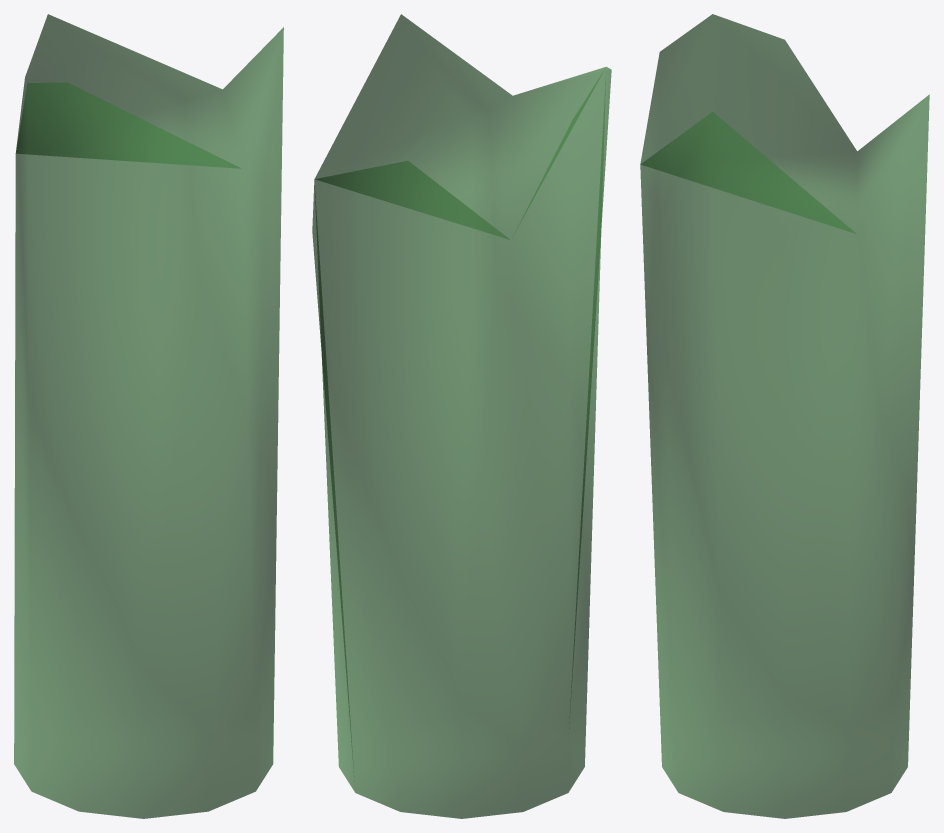
Rendered from broken_bottle_weapon.glb.
3 views of the same model, side by side, from view 1: azimuth 30°, elevation 25°; view 2: azimuth 150°, elevation 25°; view 3: azimuth 270°, elevation 25° (orthographic). The views are drawn at different scales.
Parts seen in each view (by area): view 1: broken_bottle_weapon; view 2: broken_bottle_weapon; view 3: broken_bottle_weapon.
Part boxes in pixels (x1,y1,x2,y2): broken_bottle_weapon: [14, 14, 283, 818]; broken_bottle_weapon: [312, 14, 611, 818]; broken_bottle_weapon: [640, 14, 929, 818].
Size of the model in its own units: 0.0442 by 0.134 by 0.05.
